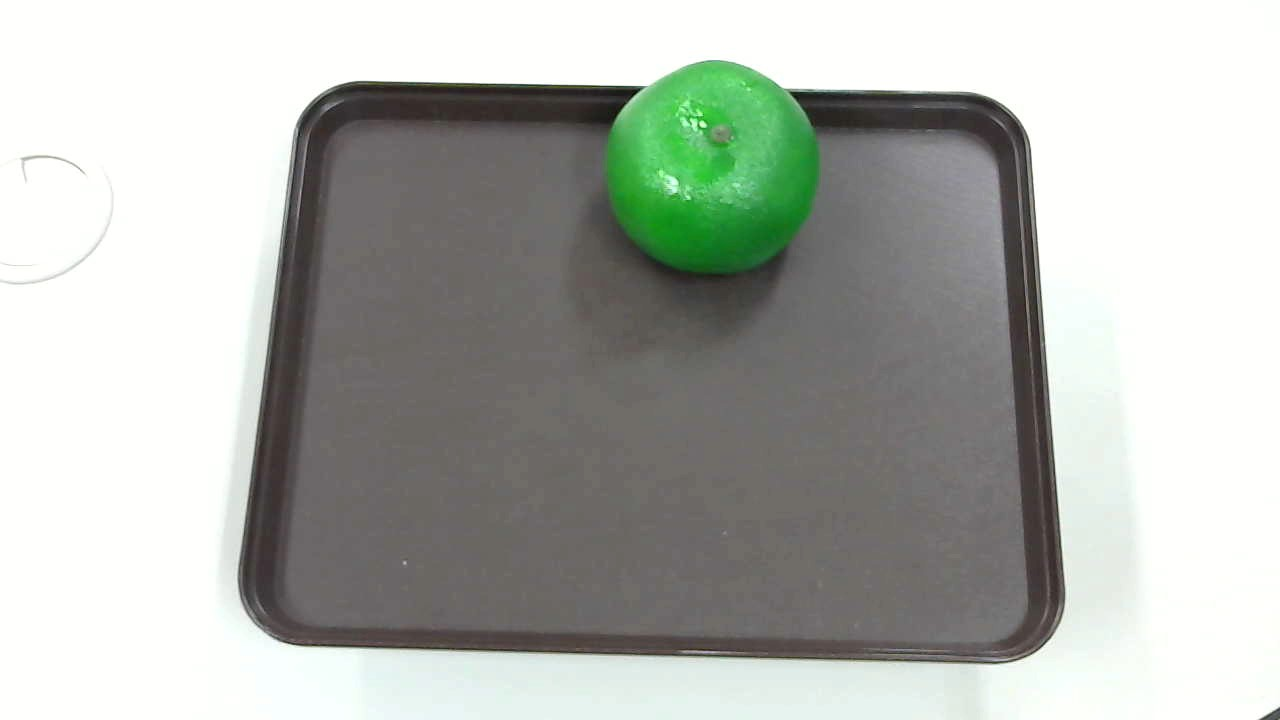green orange: (600, 58, 827, 278)
